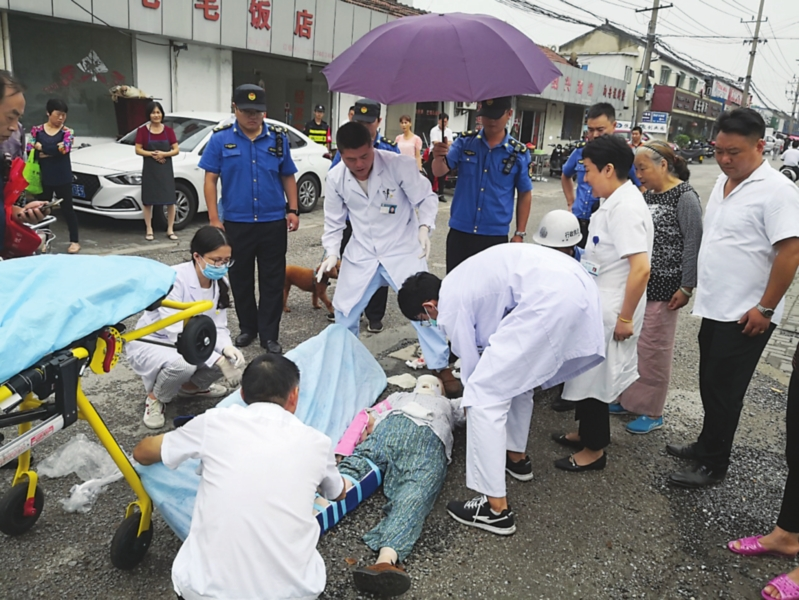10+: (1, 58, 797, 595)
down: (291, 357, 502, 588)
